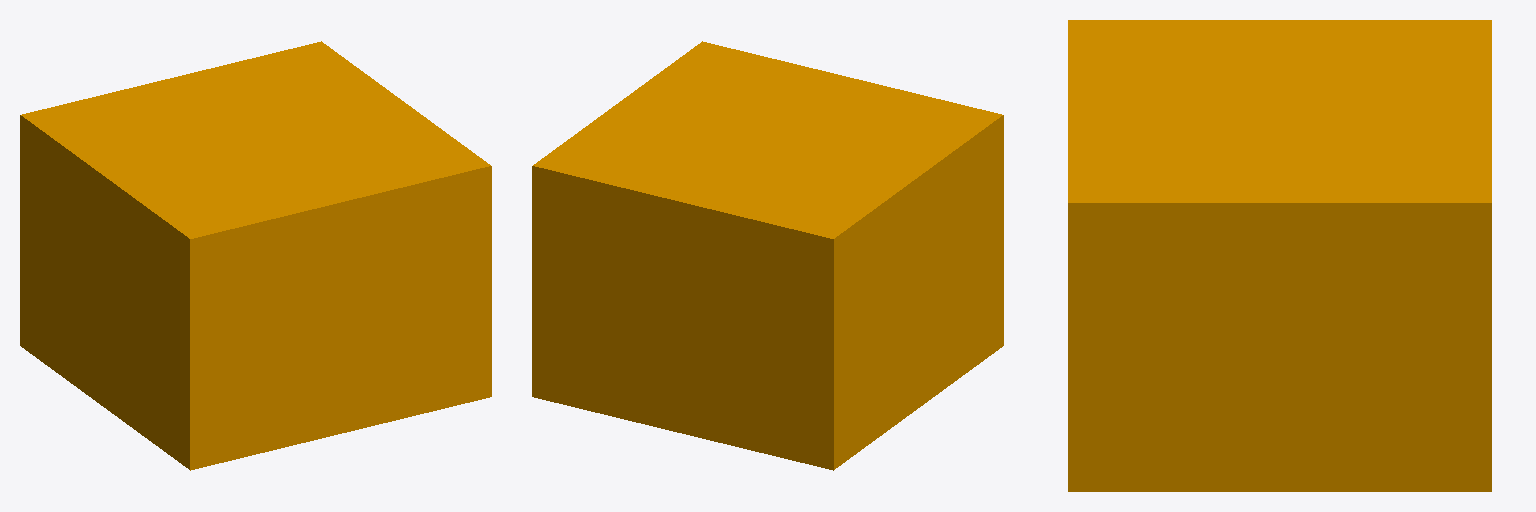
The robot description file, URDF, robot "box_1":
<robot name="box_1">
        <link name="base">
            <inertial>
                <mass value="0.2"/>
                <inertia ixx="0.0001" ixy="0" ixz="0" iyy="0.0001" iyz="0" izz="0.0001"/>
            </inertial>
            <visual>
                <geometry><mesh filename="box_1.obj" scale="1 1 1"/></geometry>
            </visual>
            <collision>
                <geometry><box size="0.04484911834283769 0.04384248606168542 0.03292494103337024"/></geometry>
            </collision>
        </link></robot>

--- Render facts (derived) ---
Views: 3 orthographic renders of the robot side by side, from view 1: azimuth 30°, elevation 25°; view 2: azimuth 150°, elevation 25°; view 3: azimuth 270°, elevation 25°.
Robot: box_1 — 1 links, 0 joints (none); root link base; default pose: every joint at zero.
Visible links, largest first — view 1: base; view 2: base; view 3: base.
Link boxes in pixels (x1=…): base: x1=20, y1=41, x2=491, y2=470; base: x1=532, y1=41, x2=1003, y2=470; base: x1=1068, y1=20, x2=1491, y2=491.
Size in the robot's own frame: 0.0448 by 0.0438 by 0.0329 metres.
Meshes: 1 distinct files referenced, 1 mesh visuals loaded (1 OBJ).
